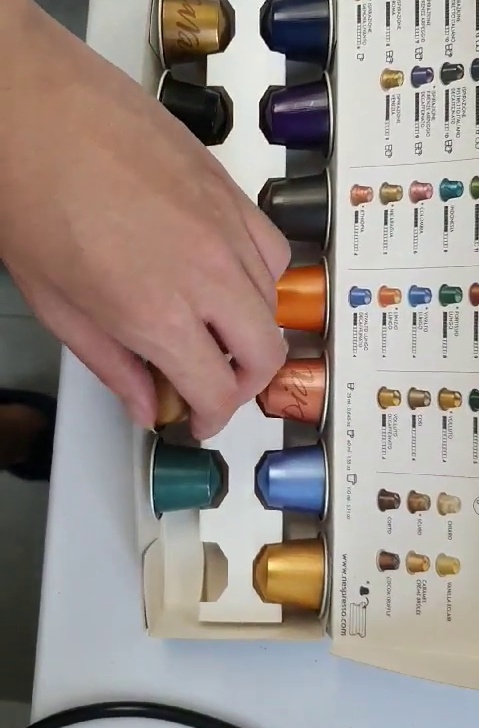capsule_12: (133, 348, 230, 437)
